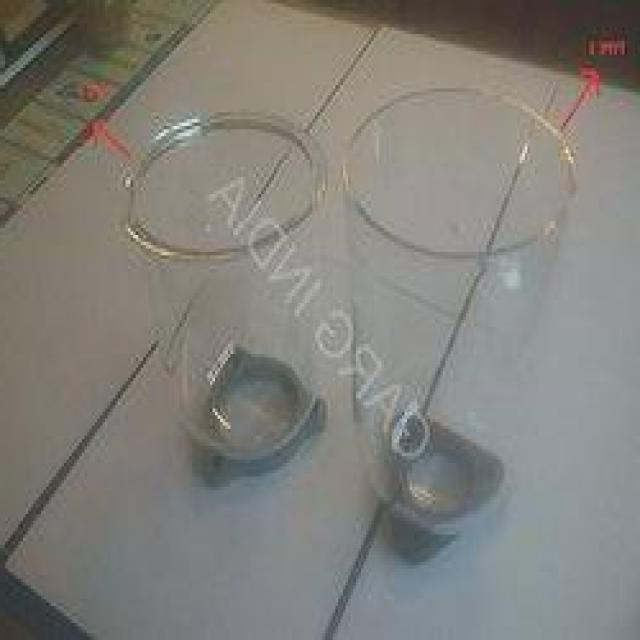glass: (340, 80, 586, 567)
